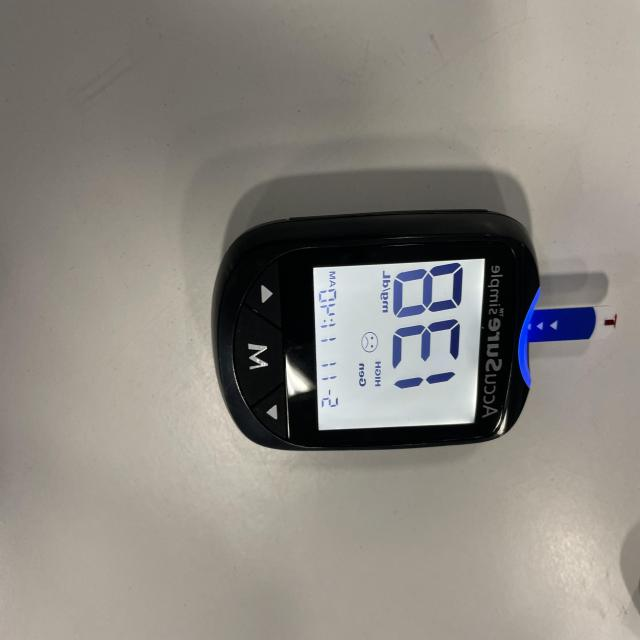gluco: (209, 135, 616, 454)
